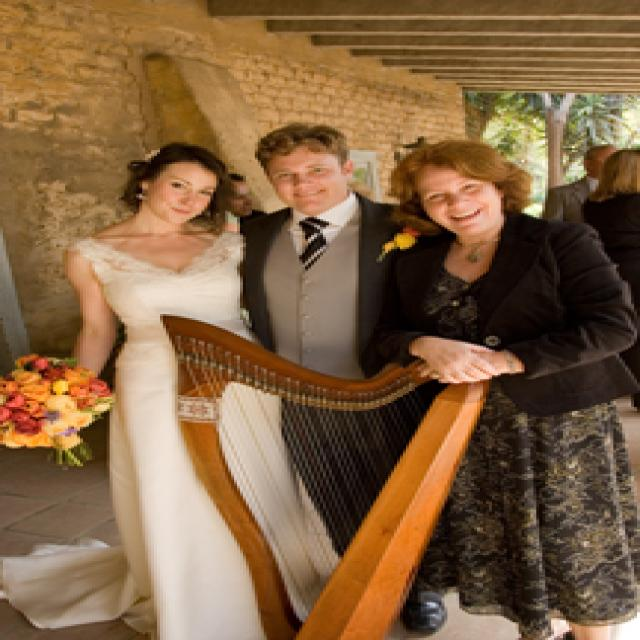harp: (148, 309, 489, 640)
